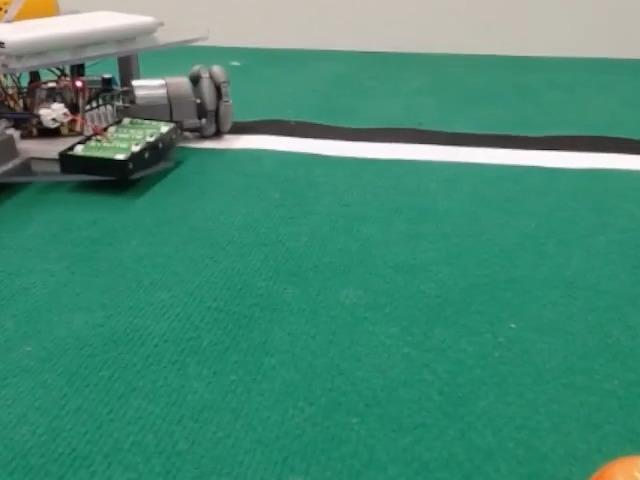Ball: (589, 456, 639, 479)
